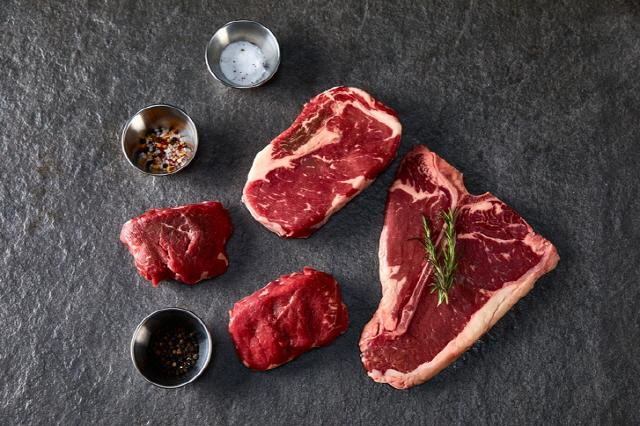beef: (358, 93, 563, 260), (250, 61, 402, 154), (227, 177, 346, 246), (119, 128, 230, 188)
